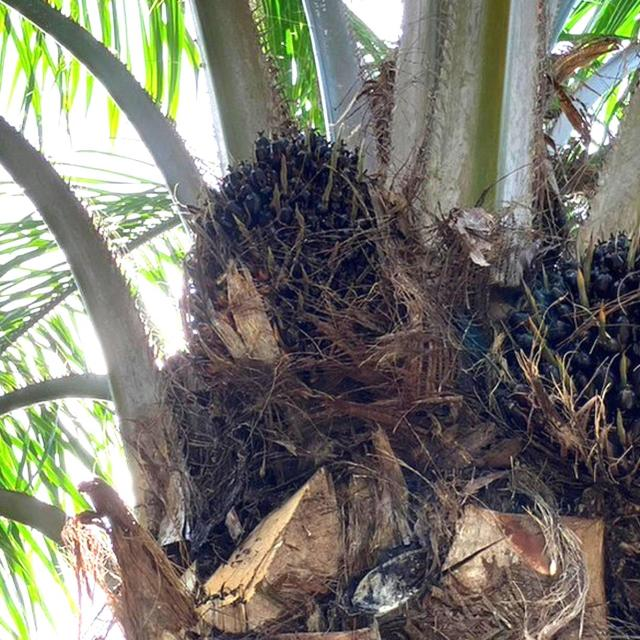unripe: (184, 129, 398, 383)
